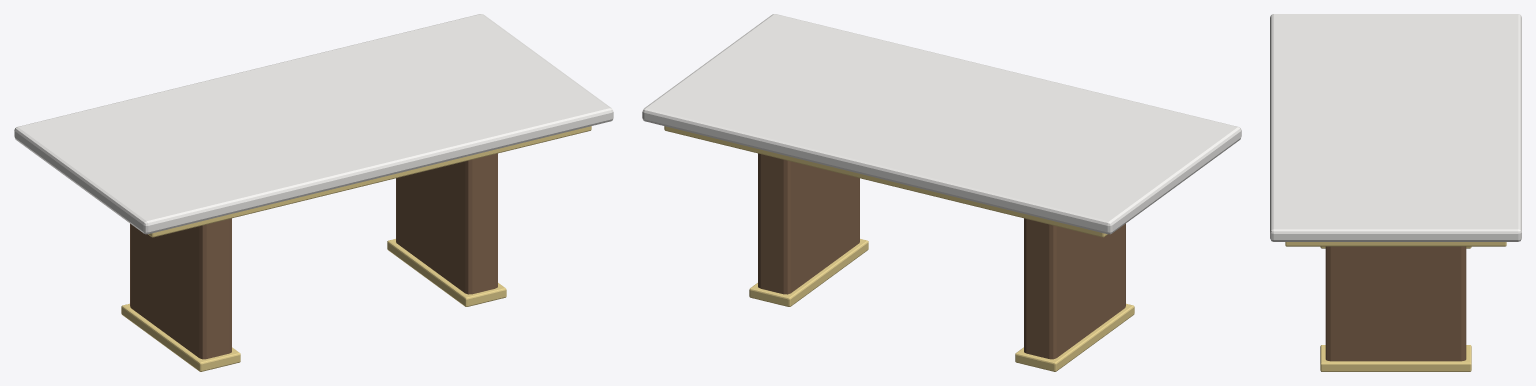
File: yemek-masasi.glb
The picture shows the model from 3 angles, left to right: view 1: azimuth 30°, elevation 25°; view 2: azimuth 150°, elevation 25°; view 3: azimuth 270°, elevation 25°; orthographic projection. The views are drawn at different scales.
Parts seen in each view (by area): view 1: Table_Top, Table_Pedestal, Table_Pedestal.001, Table_Apron, Table_Ped_Gold, Table_Ped_Gold.001; view 2: Table_Top, Table_Pedestal, Table_Pedestal.001, Table_Apron, Table_Ped_Gold, Table_Ped_Gold.001; view 3: Table_Top, Table_Pedestal.001, Table_Ped_Gold.001, Table_Apron.
Part boxes in pixels (left/top/right/bottom): Table_Top: left=14, top=14, right=613, bottom=234; Table_Pedestal: left=130, top=218, right=231, bottom=359; Table_Pedestal.001: left=396, top=153, right=497, bottom=294; Table_Apron: left=148, top=126, right=591, bottom=237; Table_Ped_Gold: left=121, top=303, right=240, bottom=371; Table_Ped_Gold.001: left=387, top=239, right=506, bottom=306; Table_Top: left=642, top=14, right=1241, bottom=234; Table_Pedestal: left=1024, top=218, right=1125, bottom=359; Table_Pedestal.001: left=758, top=153, right=859, bottom=294; Table_Apron: left=664, top=126, right=1107, bottom=237; Table_Ped_Gold: left=1015, top=303, right=1134, bottom=371; Table_Ped_Gold.001: left=749, top=239, right=868, bottom=306; Table_Top: left=1270, top=14, right=1521, bottom=241; Table_Pedestal.001: left=1325, top=246, right=1466, bottom=361; Table_Ped_Gold.001: left=1320, top=345, right=1471, bottom=371; Table_Apron: left=1285, top=242, right=1506, bottom=246.
Bounding box in the file's own units: 2.05 × 0.7875 × 1.
